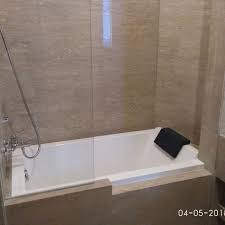bathub: (7, 121, 220, 225)
